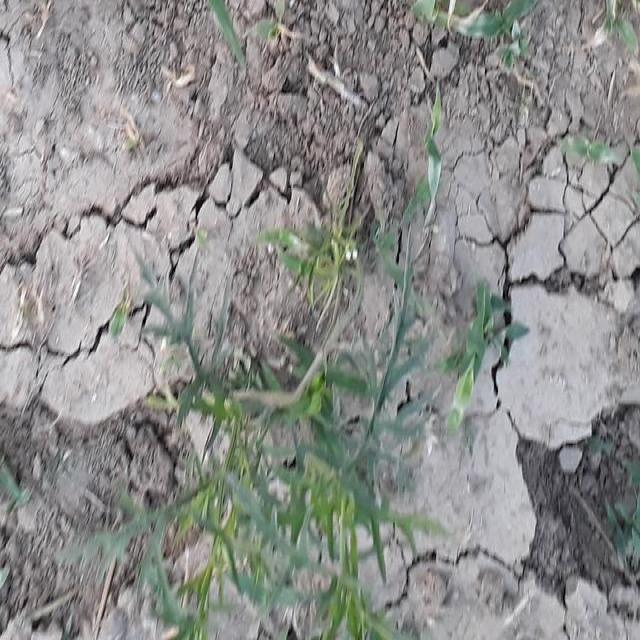weed: (123, 275, 471, 640)
